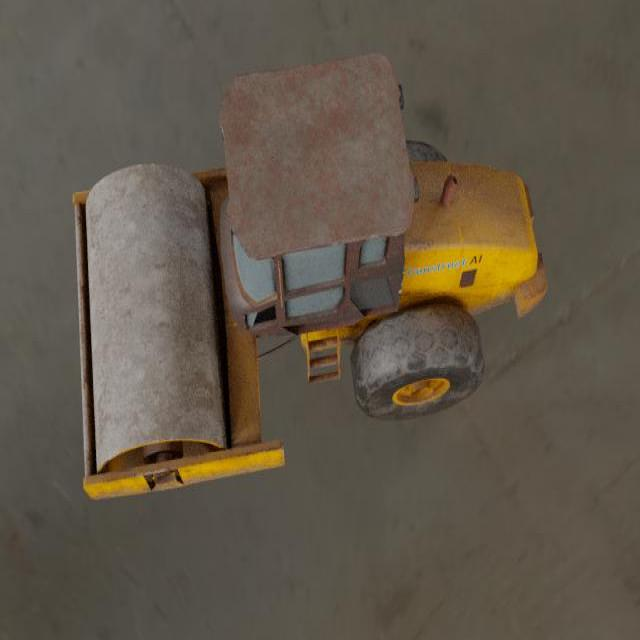Roller: (72, 51, 548, 498)
